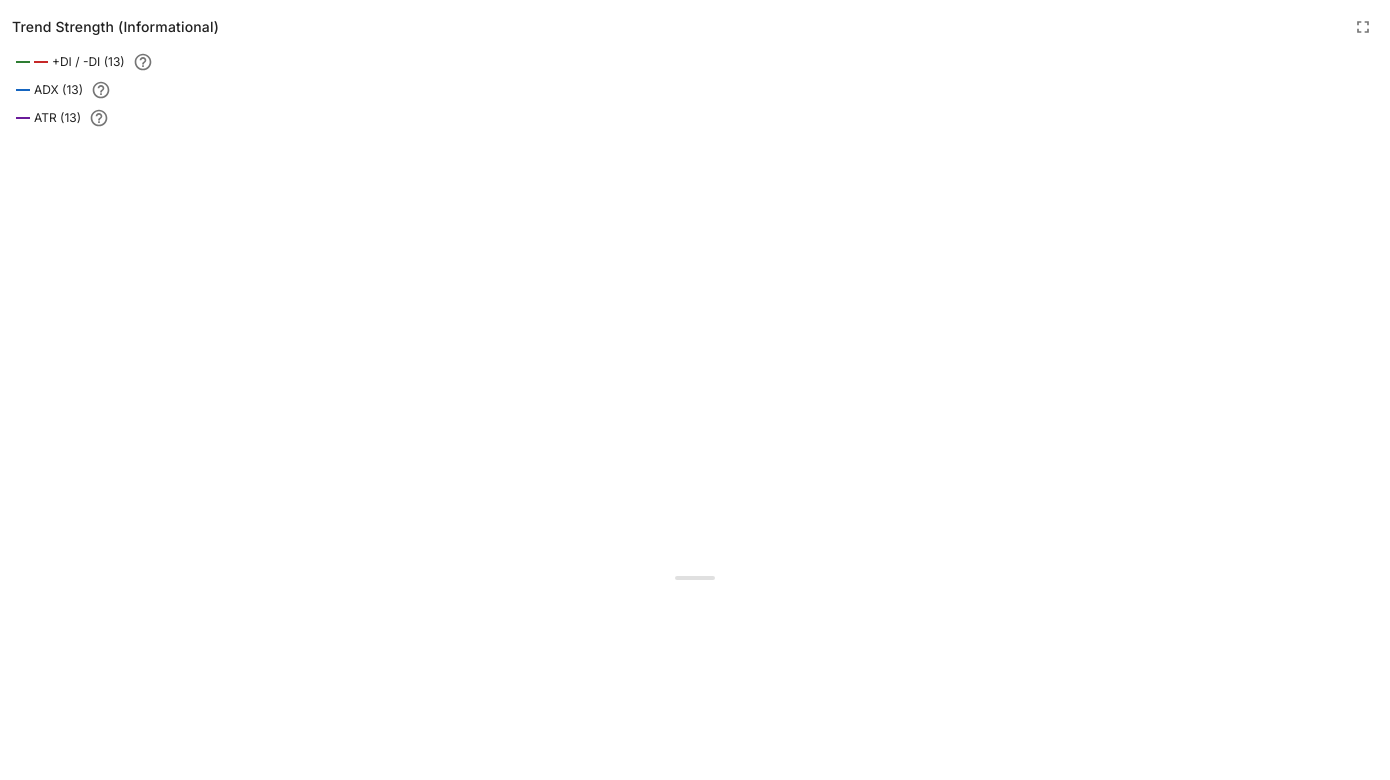
Test case: TrendStrengthChart › opens the ADX MetricHelp balloon describing the rise off its own recent low
Step 1. Click the button named "ADX (13) help" → (101, 90), box [91,80,111,100]
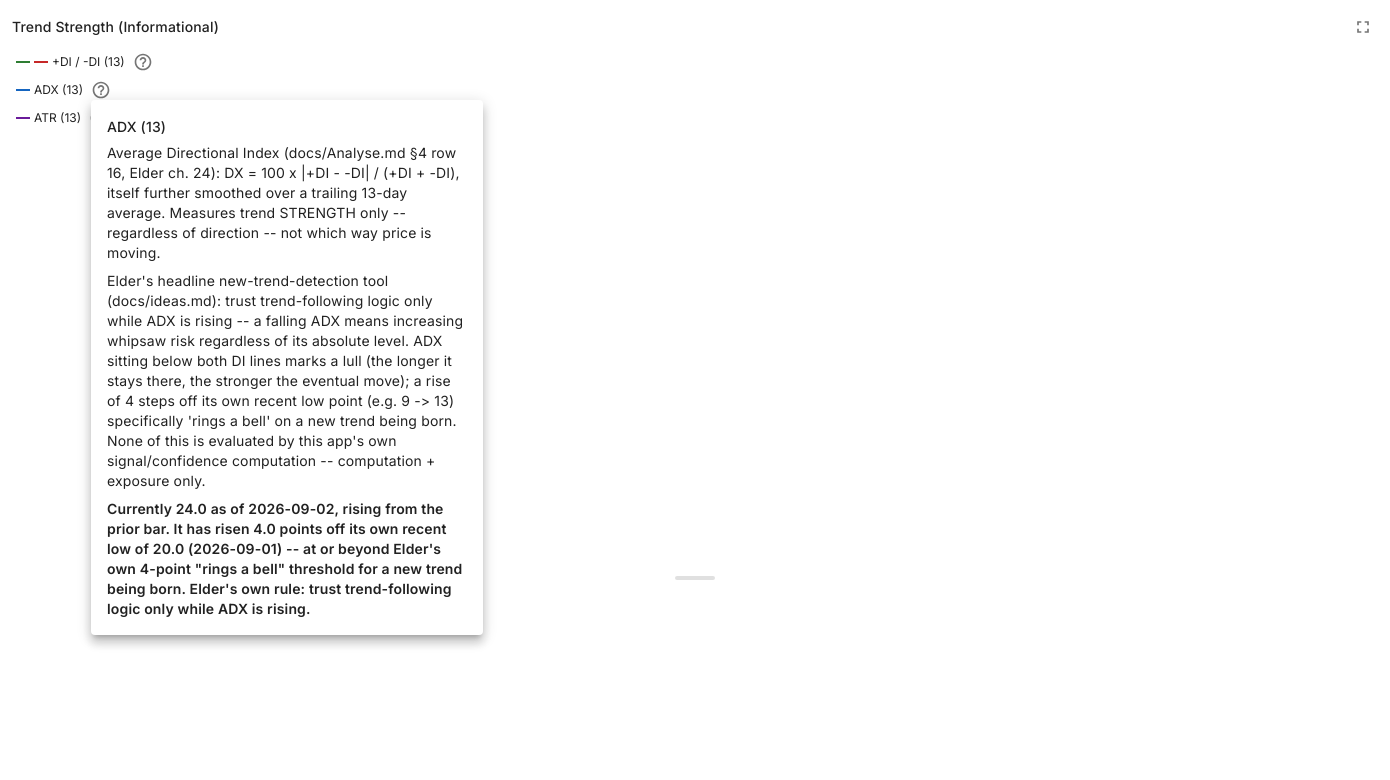
Check: the text "at or beyond Elder's own 4-point" is shown, box [107,500,462,617]
